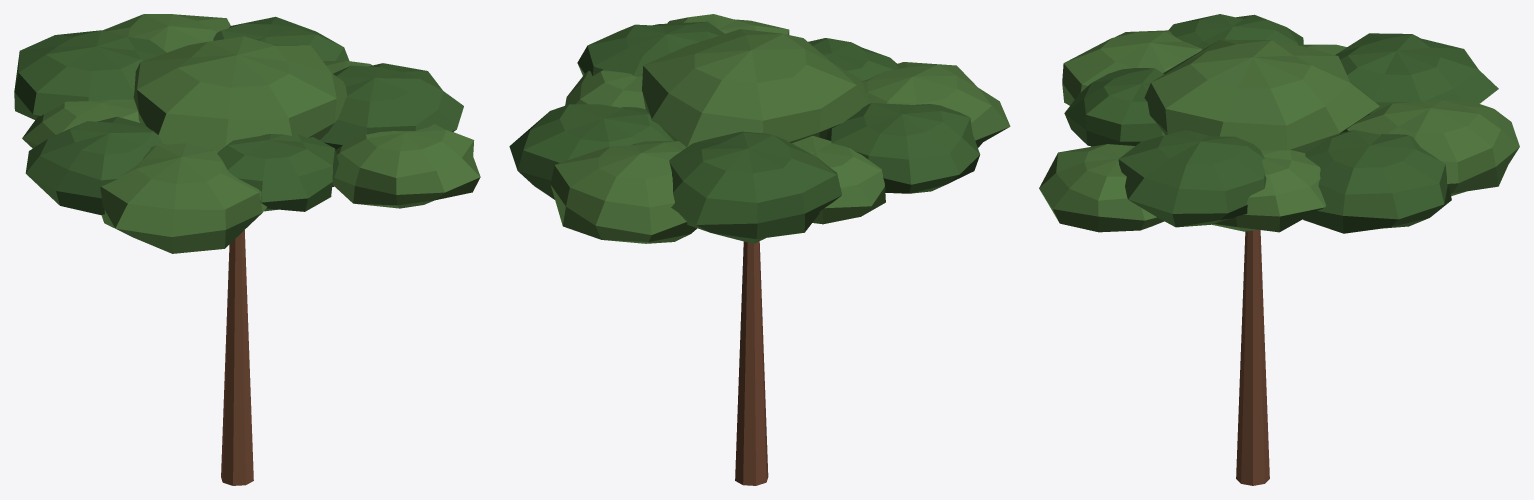
The model's file is tree_stone_pine_large.glb.
3 renders of one model, left to right at view 1: azimuth 30°, elevation 25°; view 2: azimuth 150°, elevation 25°; view 3: azimuth 270°, elevation 25°, orthographic.
Parts seen in each view (by area): view 1: tree_stone_pine_large; view 2: tree_stone_pine_large; view 3: tree_stone_pine_large.
Boxes of the visible parts, x1=… form: tree_stone_pine_large: x1=14, y1=14, x2=480, y2=485; tree_stone_pine_large: x1=509, y1=14, x2=1010, y2=485; tree_stone_pine_large: x1=1039, y1=14, x2=1519, y2=485.
Bounding box in the file's own units: 16.88 × 17.32 × 17.91.
